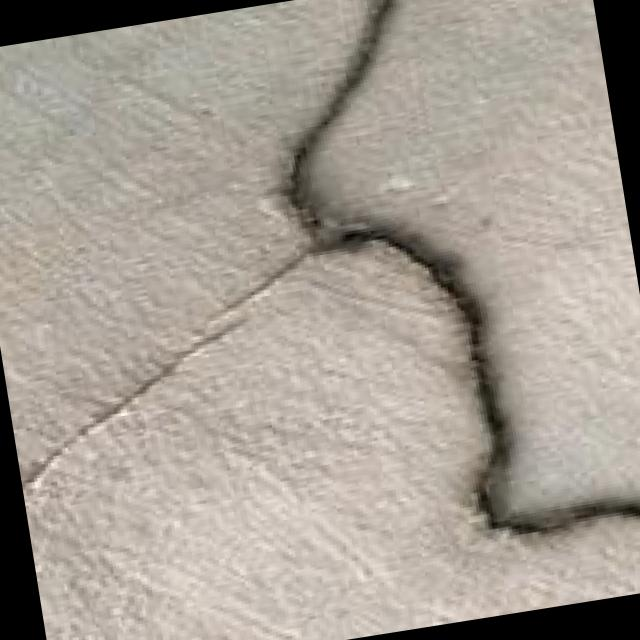crack: (228, 0, 640, 639)
